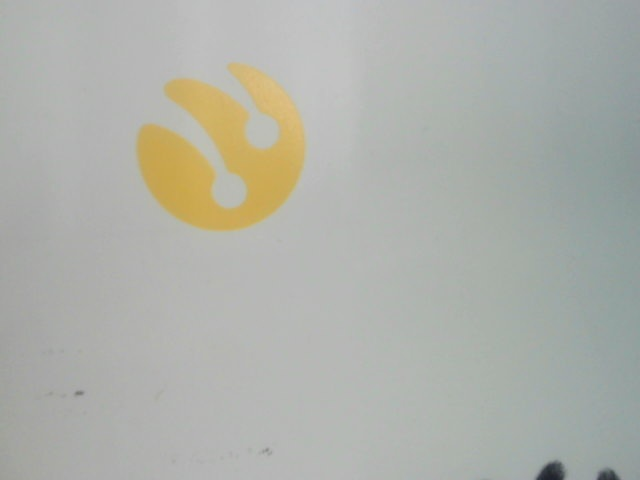AV_H3600Yellow: (119, 51, 324, 240)
